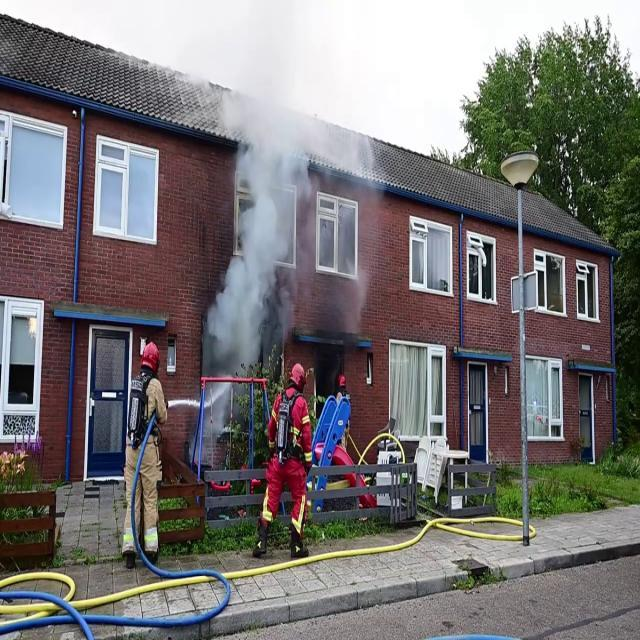Smoke: (206, 11, 314, 377)
